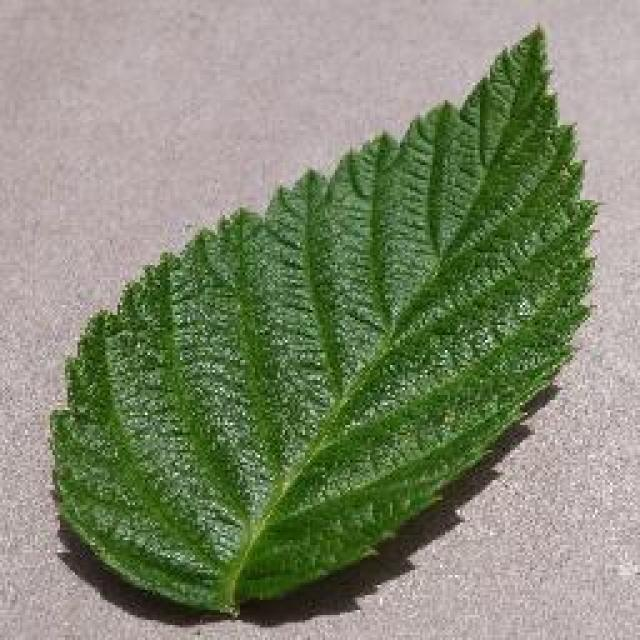Ras_healthy: (78, 107, 562, 509)
